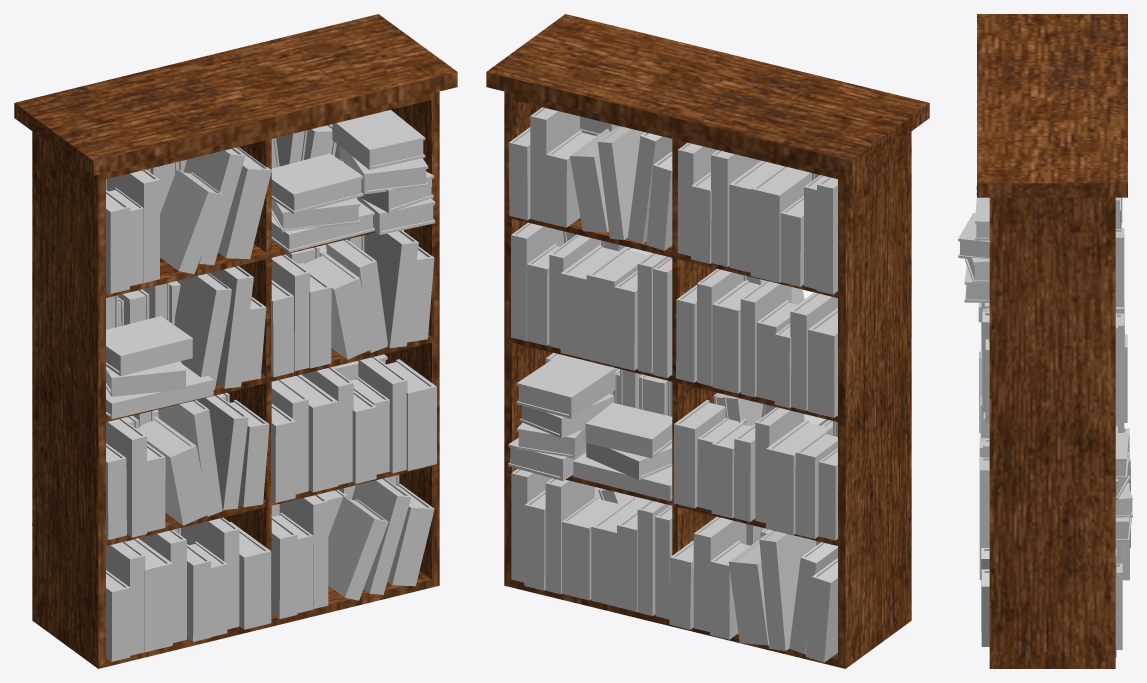
Rendered from SM_Dungeon_Bookshelf_Filled.fbx.
3 renders of one model, left to right at view 1: azimuth 30°, elevation 25°; view 2: azimuth 150°, elevation 25°; view 3: azimuth 270°, elevation 25°, orthographic. The views are drawn at different scales.
Parts seen in each view (by area): view 1: SM_Dungeon_Bookshelf_Filled; view 2: SM_Dungeon_Bookshelf_Filled; view 3: SM_Dungeon_Bookshelf_Filled.
Part boxes in pixels (left/top/right/bottom): SM_Dungeon_Bookshelf_Filled: left=14, top=14, right=457, bottom=668; SM_Dungeon_Bookshelf_Filled: left=486, top=14, right=929, bottom=668; SM_Dungeon_Bookshelf_Filled: left=958, top=14, right=1132, bottom=668.
Bounding box in the file's own units: 180 × 244 × 78.69.
